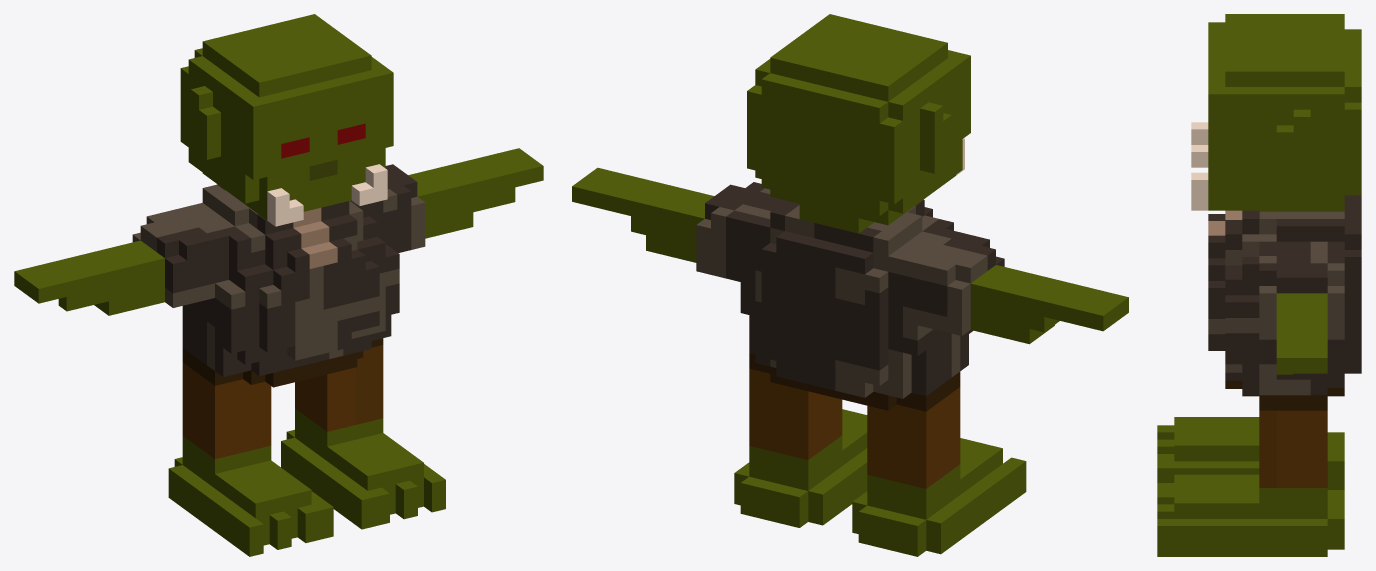
The model's file is GnomeTwo.fbx.
3 renders of one model, left to right at view 1: azimuth 30°, elevation 25°; view 2: azimuth 150°, elevation 25°; view 3: azimuth 270°, elevation 25°, orthographic. The views are drawn at different scales.
Parts seen in each view (by area): view 1: root; view 2: root; view 3: root.
Boxes of the visible parts, x1,y1,x2,y2 form: root: (14, 14, 543, 556); root: (572, 14, 1128, 556); root: (1157, 14, 1361, 556).
Bounding box in the file's own units: 0.512 × 0.4267 × 0.1707.
Materials: 1 (1 with a texture image).
